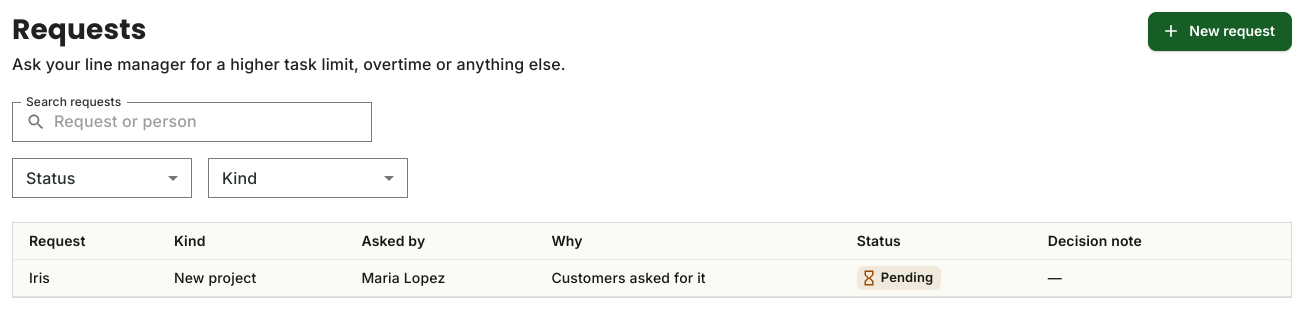
Test: RequestsPage › search › says so when a search or filter finds nothing
In the field labelled "Search requests": (213, 122) 54,102 -> 372,142, type "zzz"
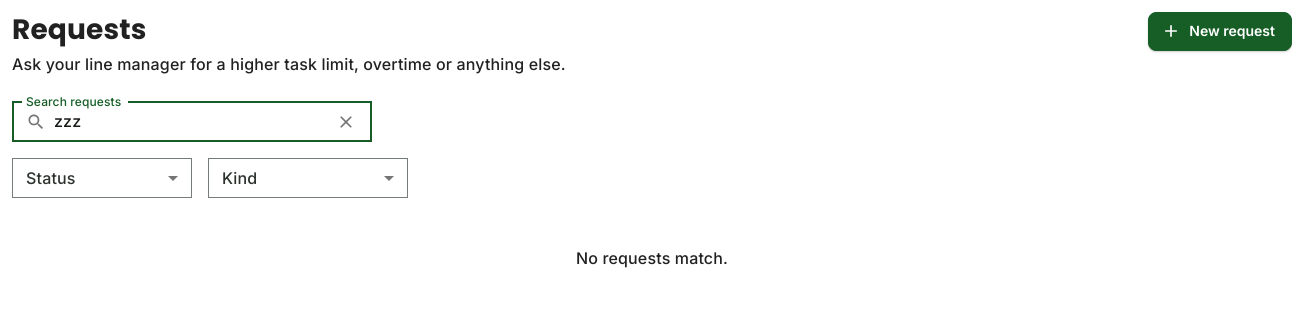
Expected: the text "No requests match." is shown, 576,248 -> 728,268
